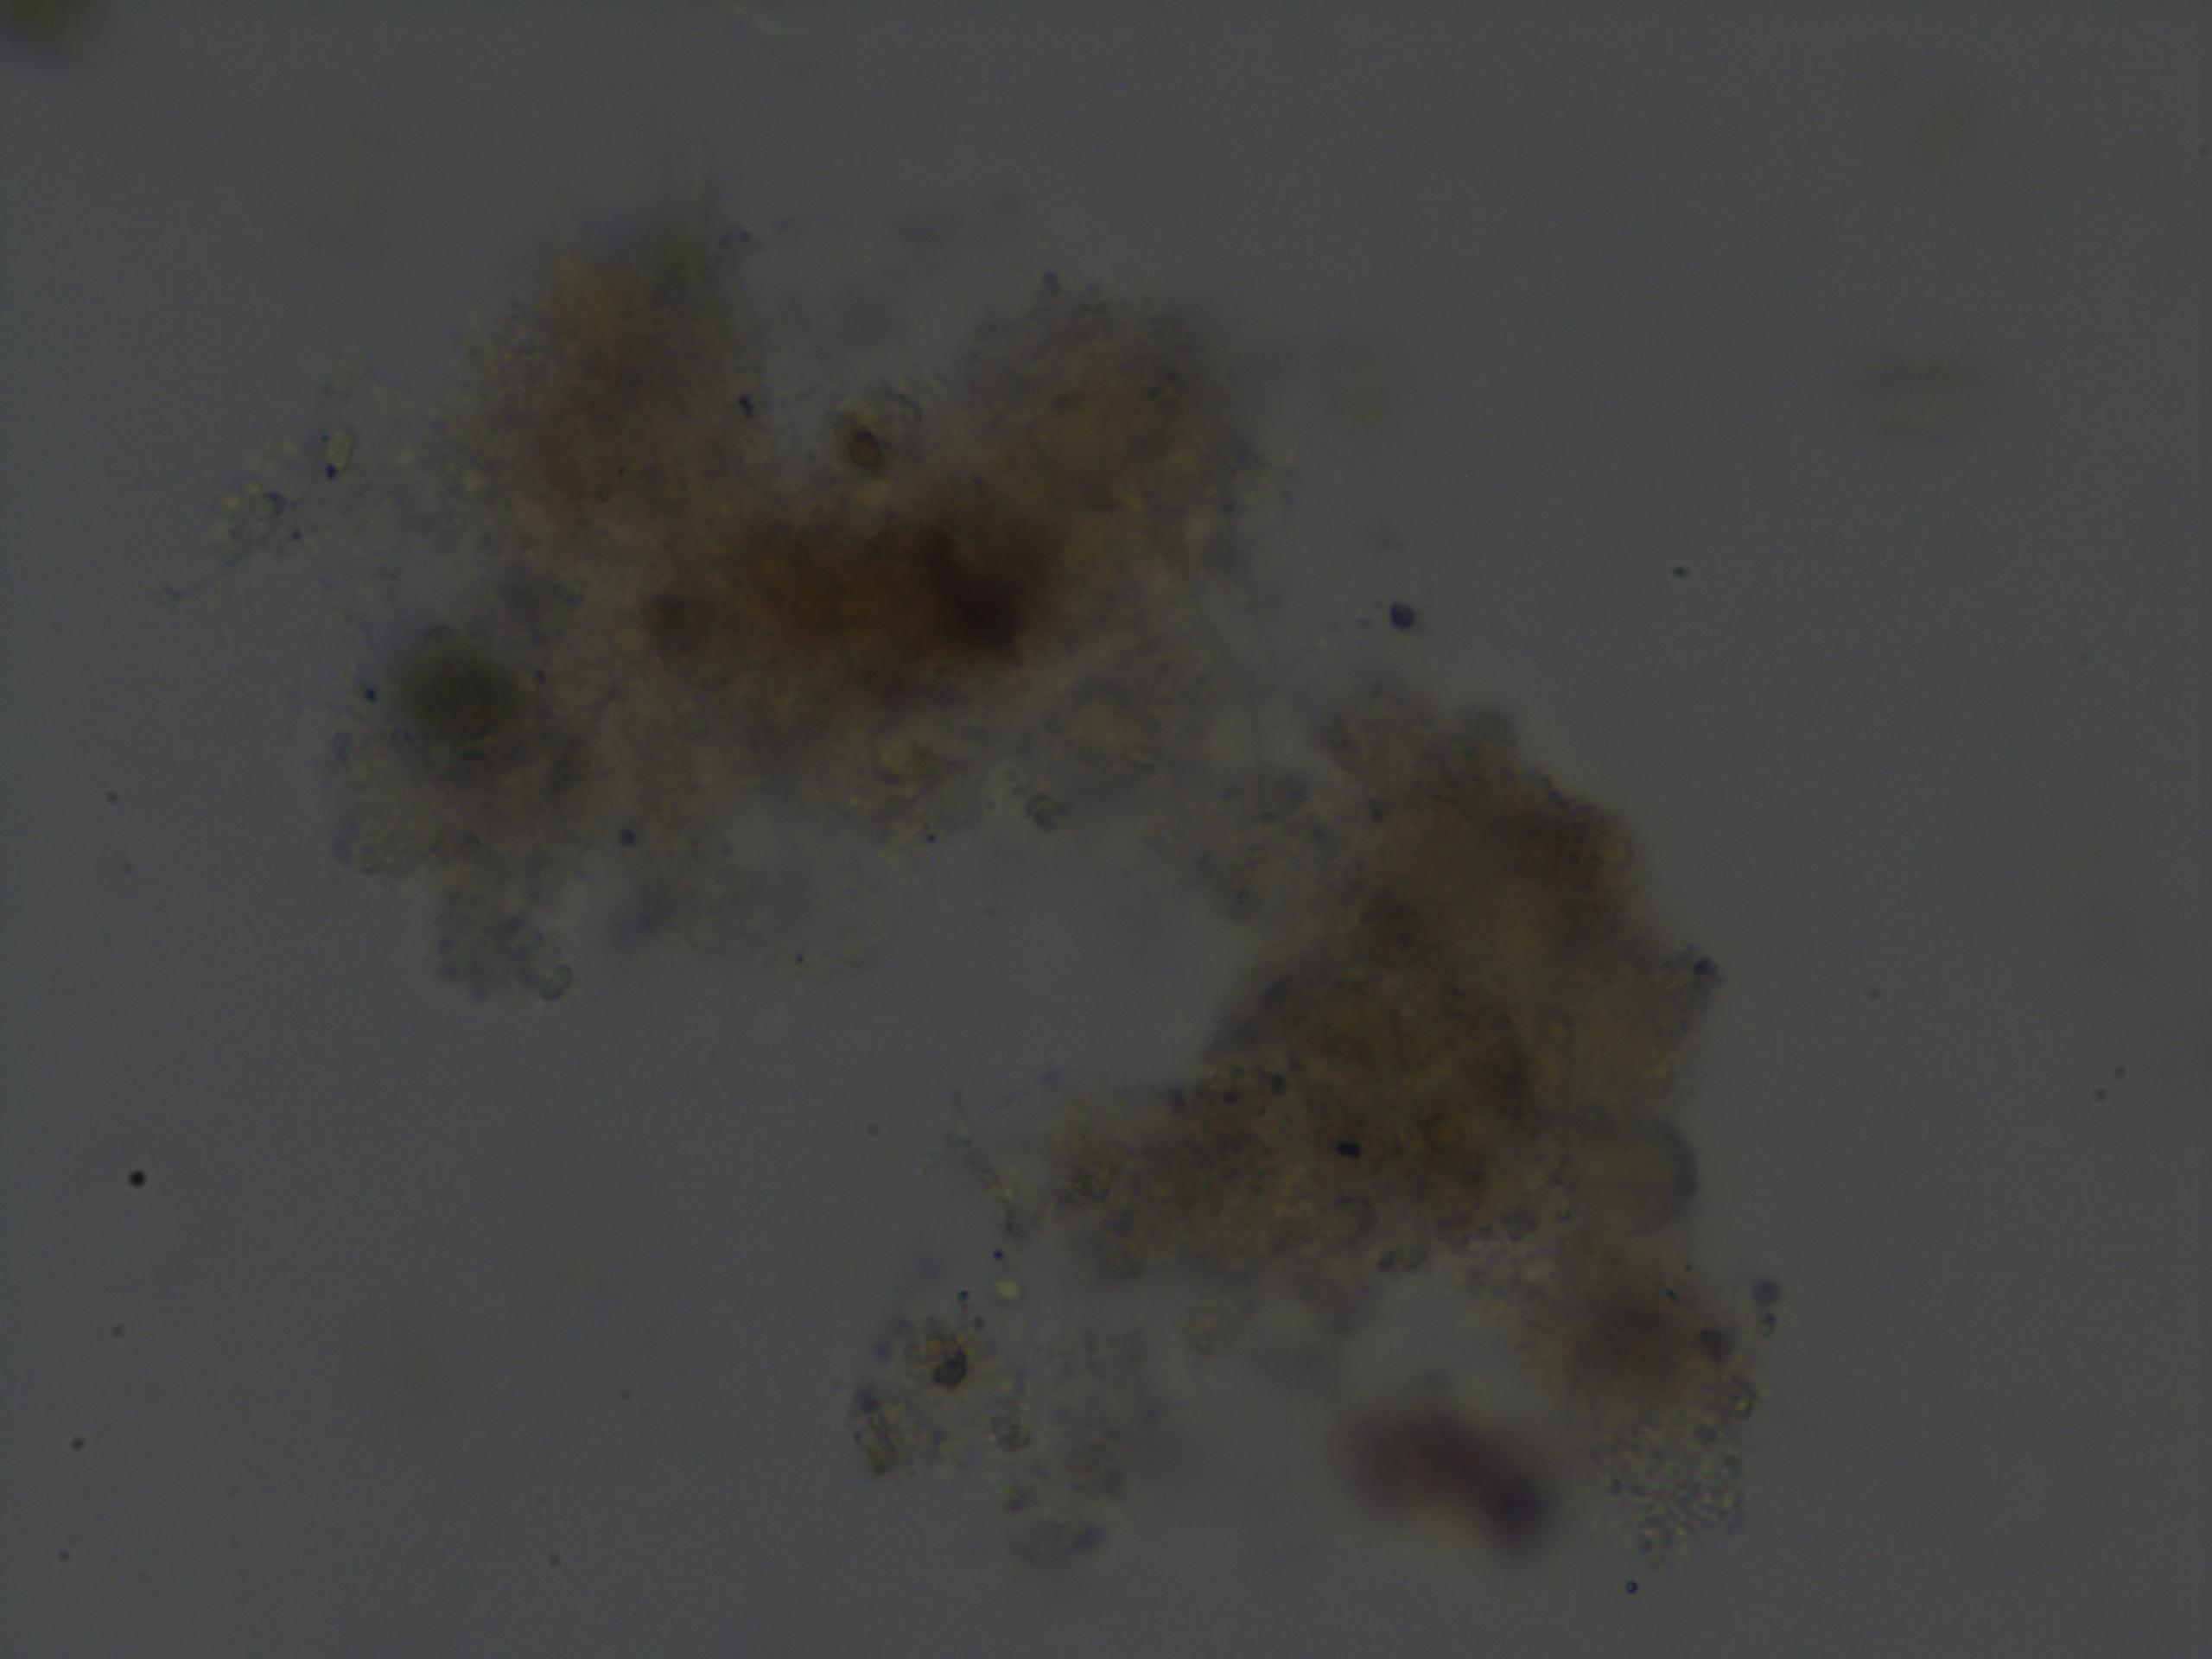open_floc: (286, 174, 1801, 1593)
